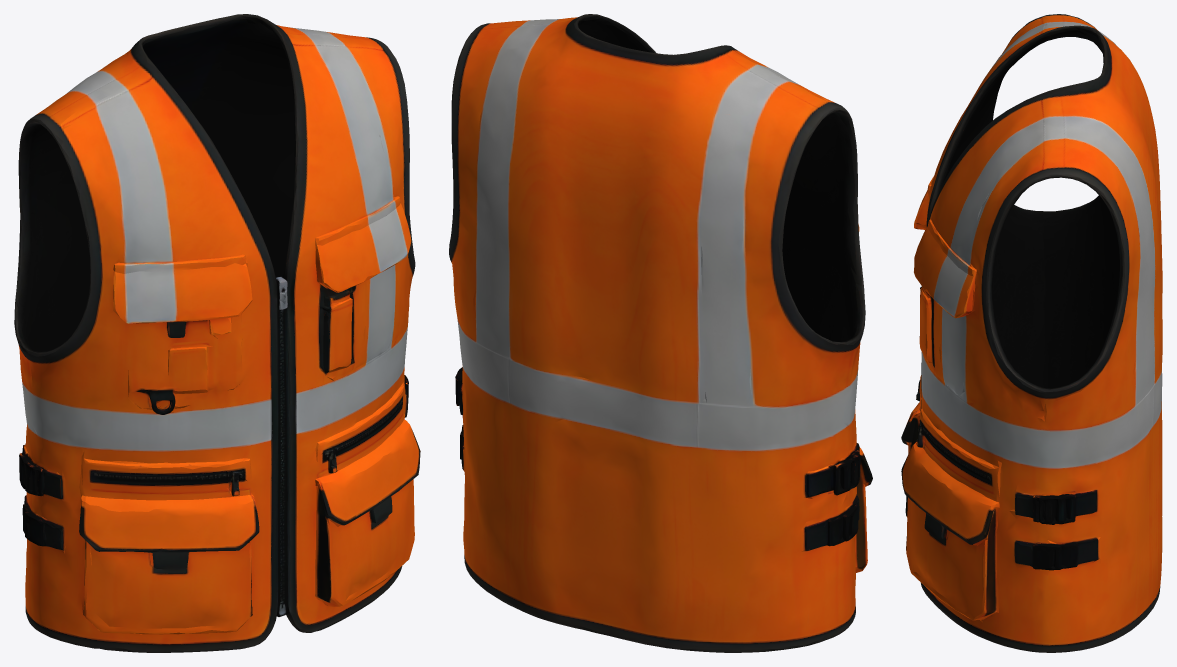
The model's file is Vest.fbx.
The picture shows the model from 3 angles, left to right: view 1: azimuth 30°, elevation 25°; view 2: azimuth 150°, elevation 25°; view 3: azimuth 270°, elevation 25°; orthographic projection. The views are drawn at different scales.
Parts seen in each view (by area): view 1: Mesh; view 2: Mesh; view 3: Mesh.
Part boxes in pixels (x1,y1,x2,y2): Mesh: (14,14,420,652); Mesh: (449,14,872,652); Mesh: (901,14,1162,652).
Size of the model in its own units: 0.8693 by 1.19 by 0.5426.
Materials: 1 (1 with a texture image).
